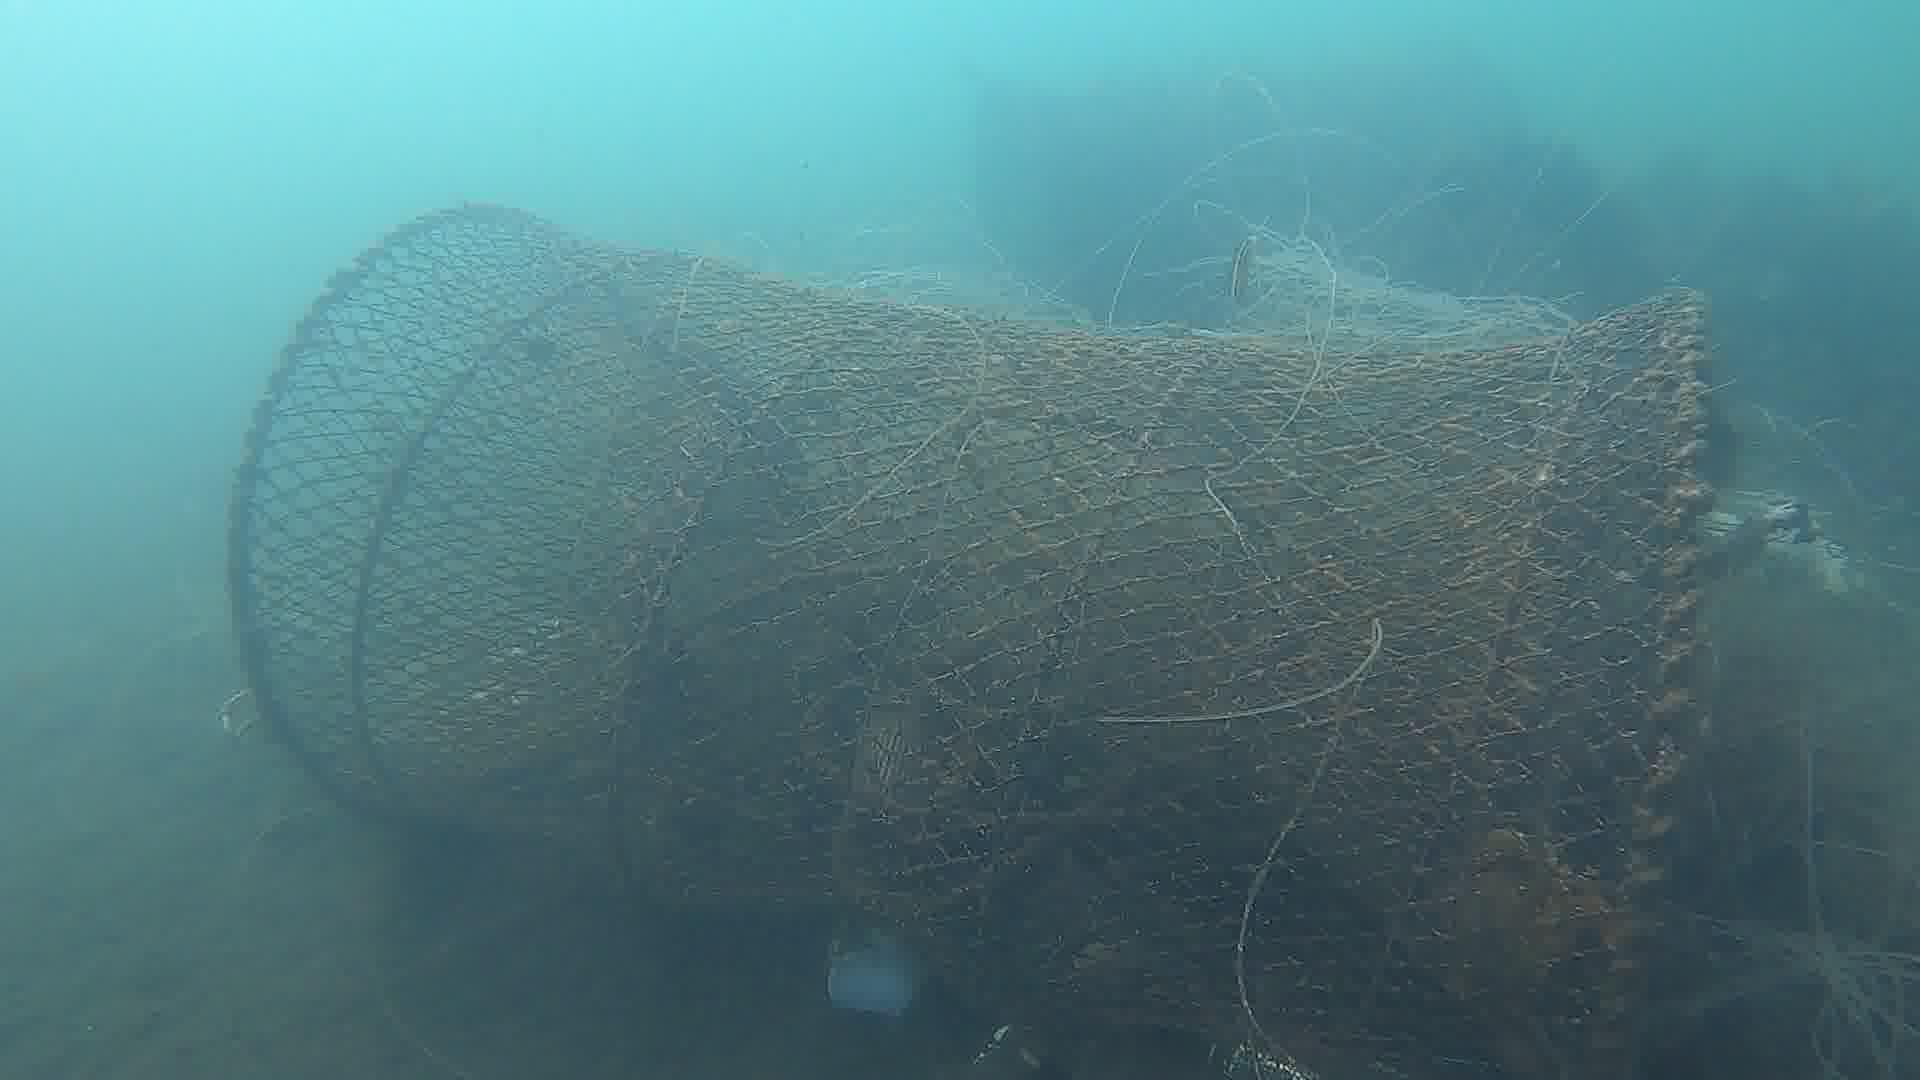spring fish trap: (222, 199, 1712, 1080)
